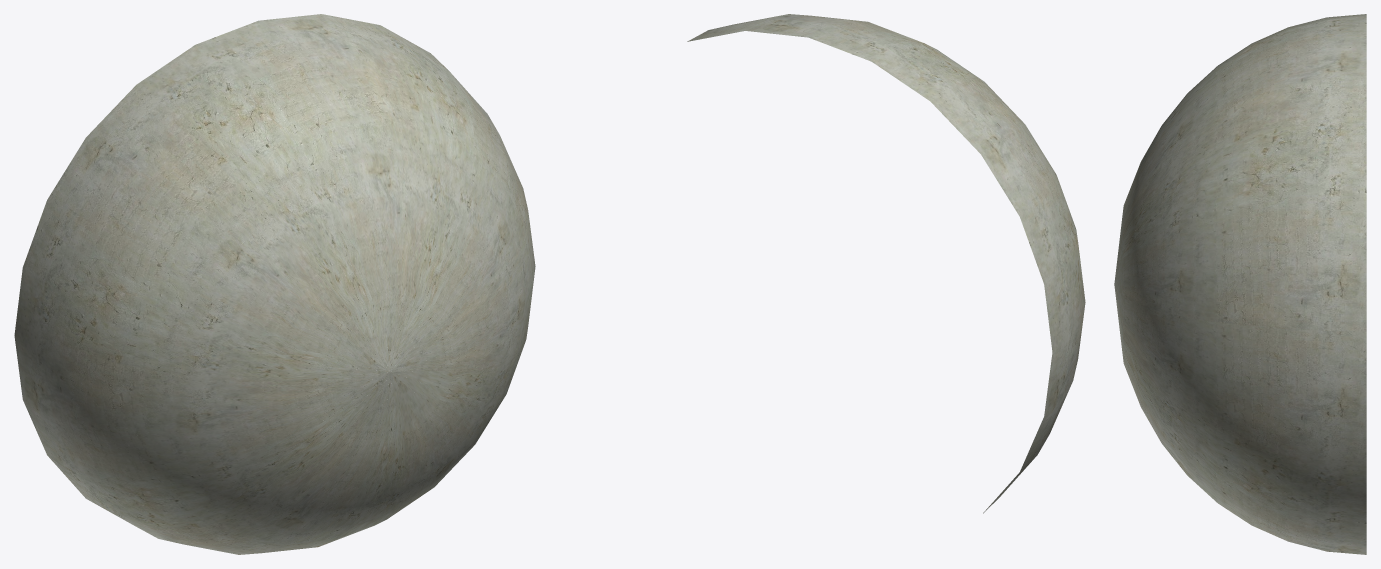
Rendered from dome_07.glb.
3 views of the same model, side by side, from view 1: azimuth 30°, elevation 25°; view 2: azimuth 150°, elevation 25°; view 3: azimuth 270°, elevation 25° (orthographic). The views are drawn at different scales.
Size of the model in its own units: 340 by 340 by 158.
Materials: 1 (1 with a texture image).
